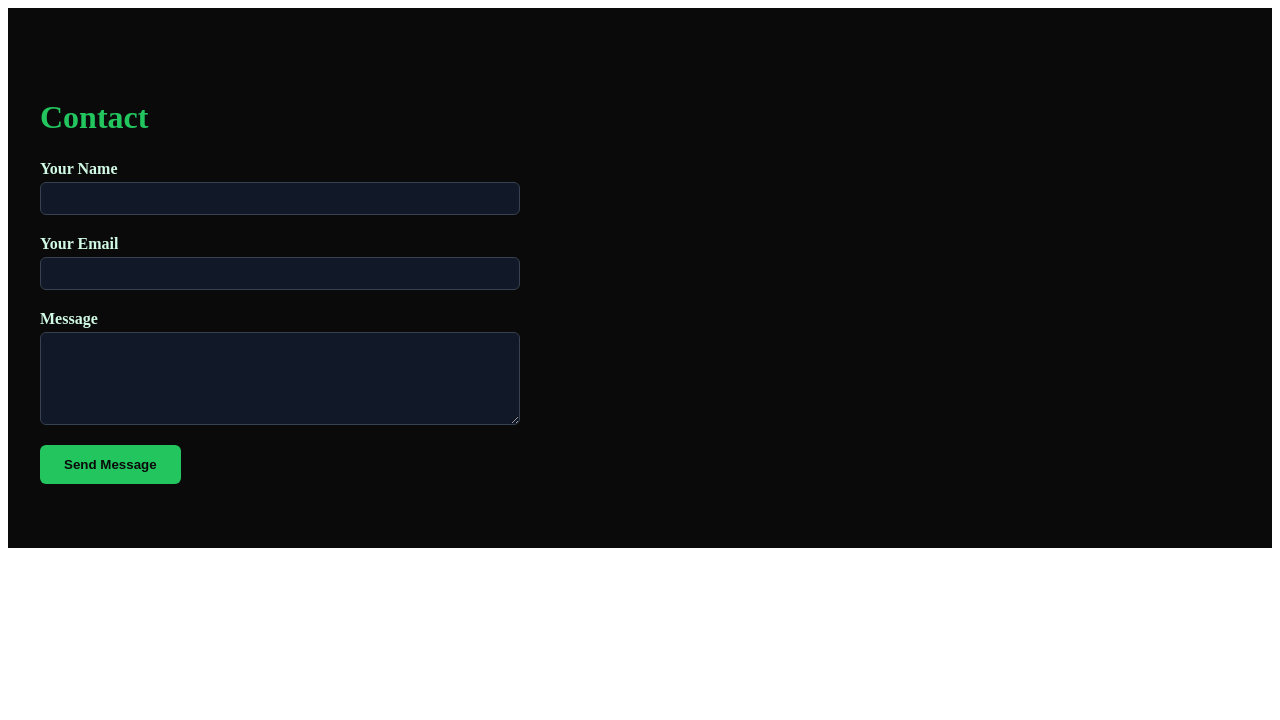
Scenario: ContactSection › shows validation error when name is empty on submit
Type "test@example.com" into the field labelled "Your Email".
click(280, 273); type("test@example.com")  # box [40,256,520,290]
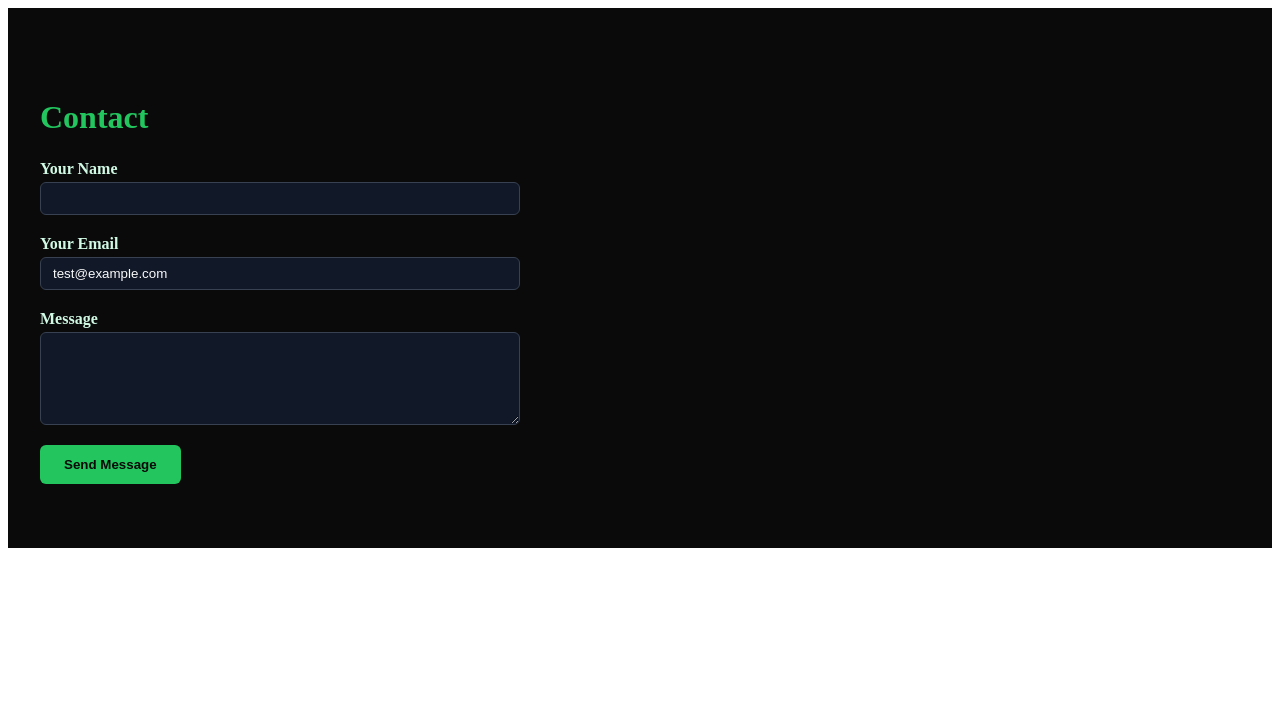
Type "Hello there" into the text box labelled "Message".
click(280, 378); type("Hello there")  # box [40,332,520,424]
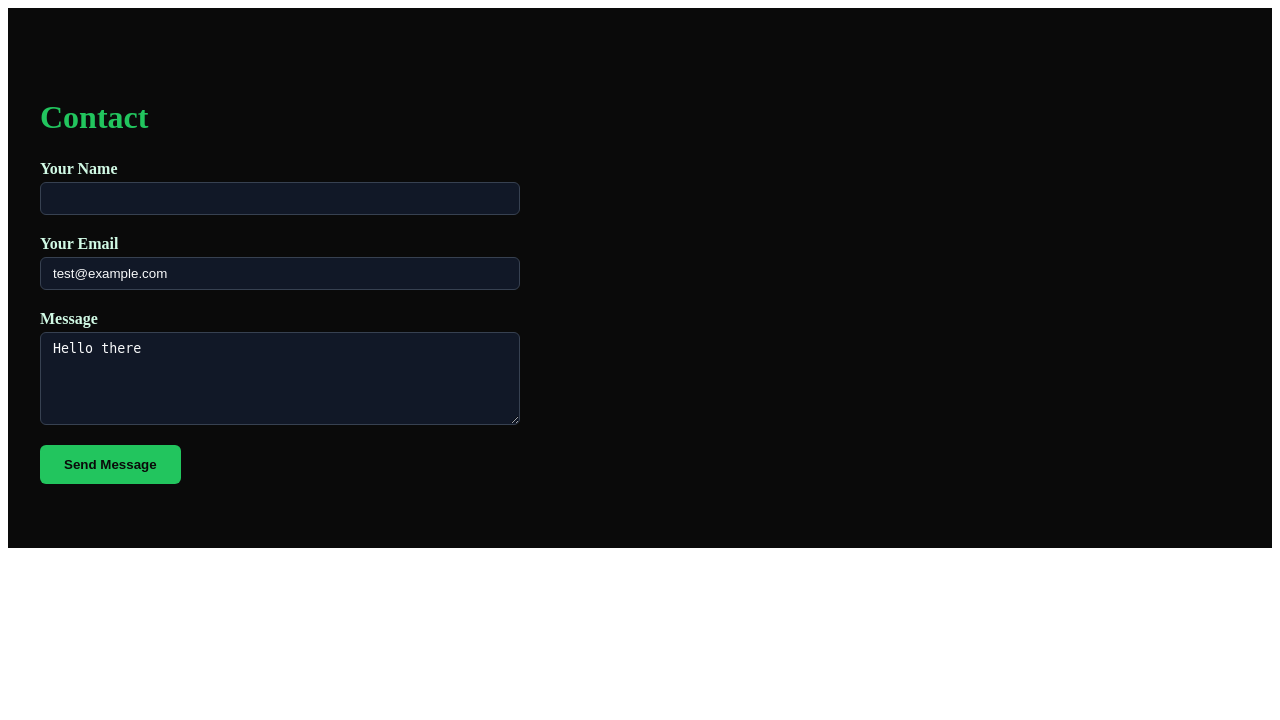
Click the button "Send Message".
click(110, 464)  # box [40,444,181,484]
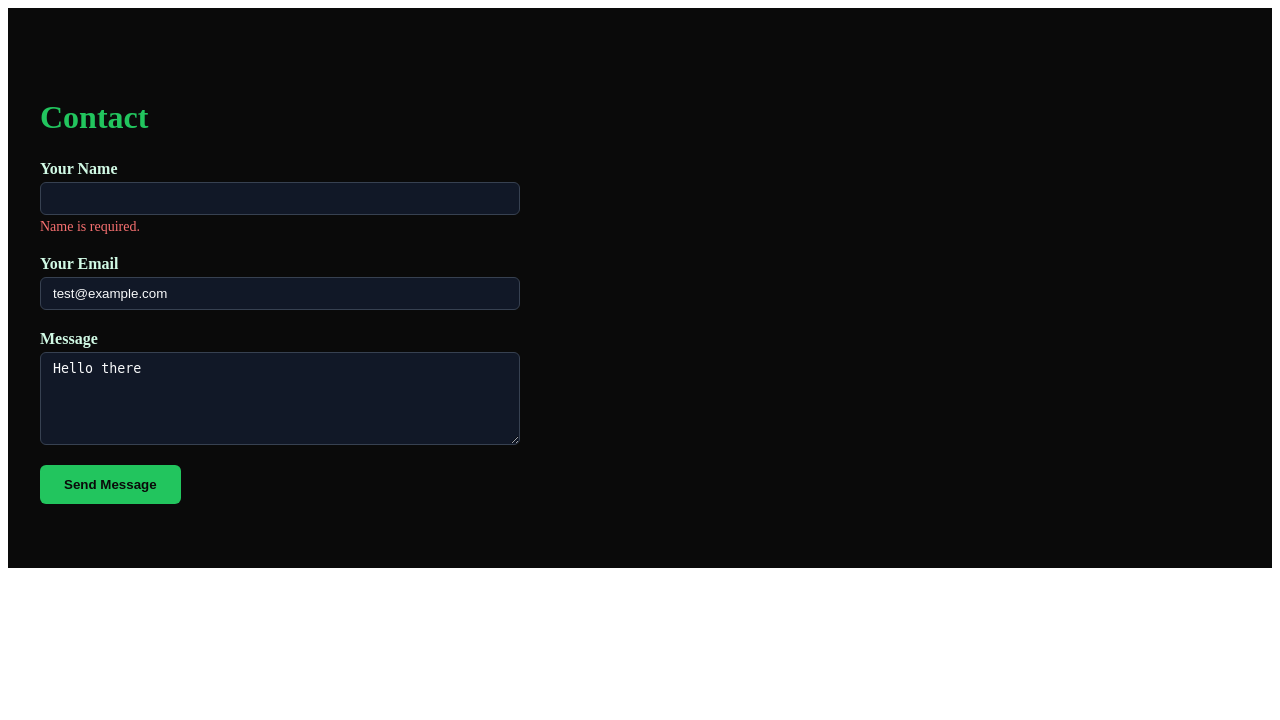
Check: the text "Name is required." is shown, box [40,218,140,234]
